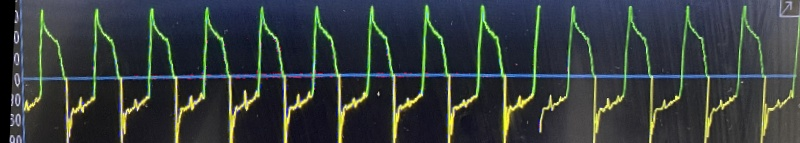hydrop_peepi: (1, 4, 798, 143)
